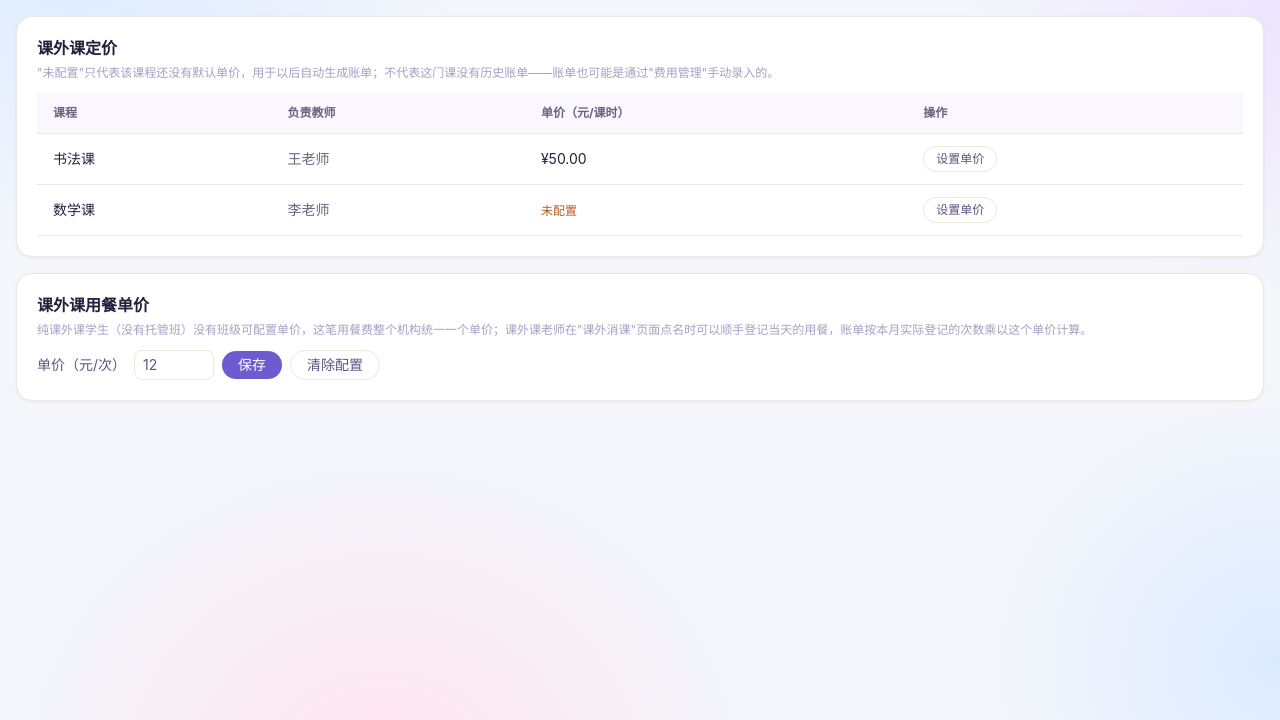
Test: AdminPricingModule › shows a validation error for invalid course price input
Expected: the text "数学课" is shown, [37, 184, 271, 236]
Click the button "设置单价" in the row of "数学课".
click(960, 210)  # box [923, 197, 997, 223]
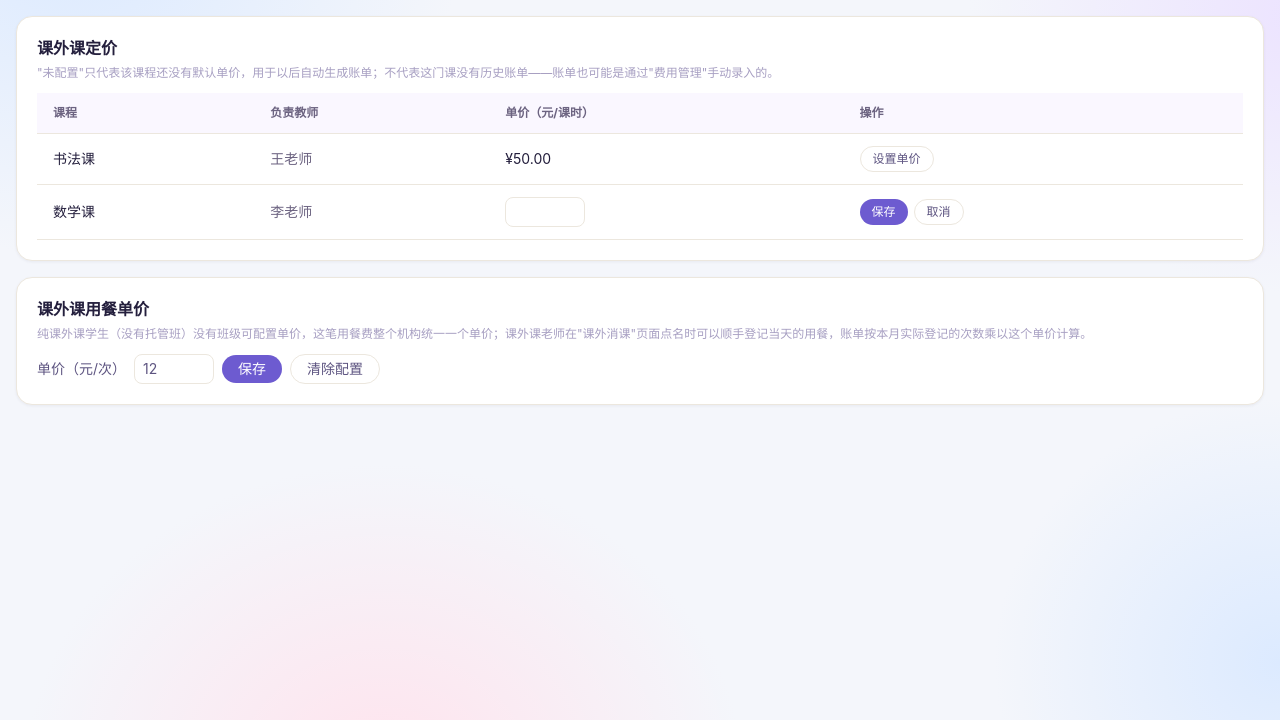
Type "abc" into the field named "数学课单价".
click(545, 212); type("abc")  # box [505, 197, 585, 227]
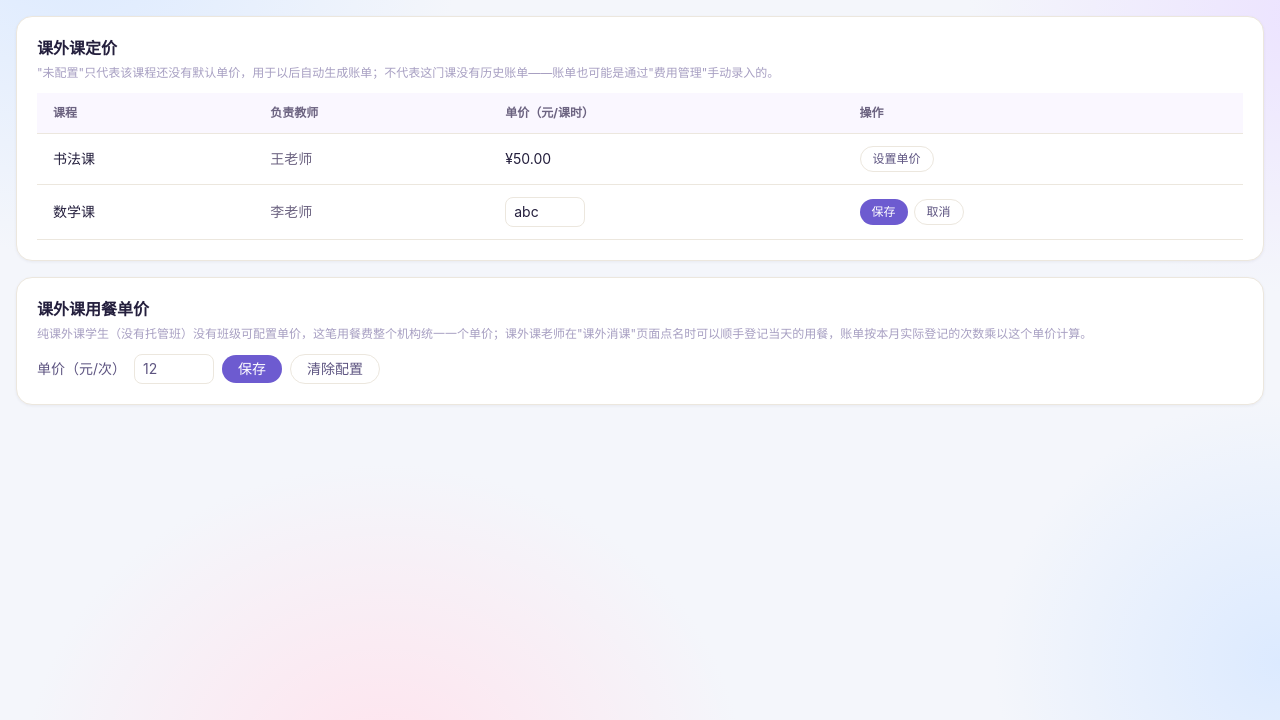
Click the button "保存" in the row of "数学课".
click(884, 212)  # box [860, 199, 908, 225]
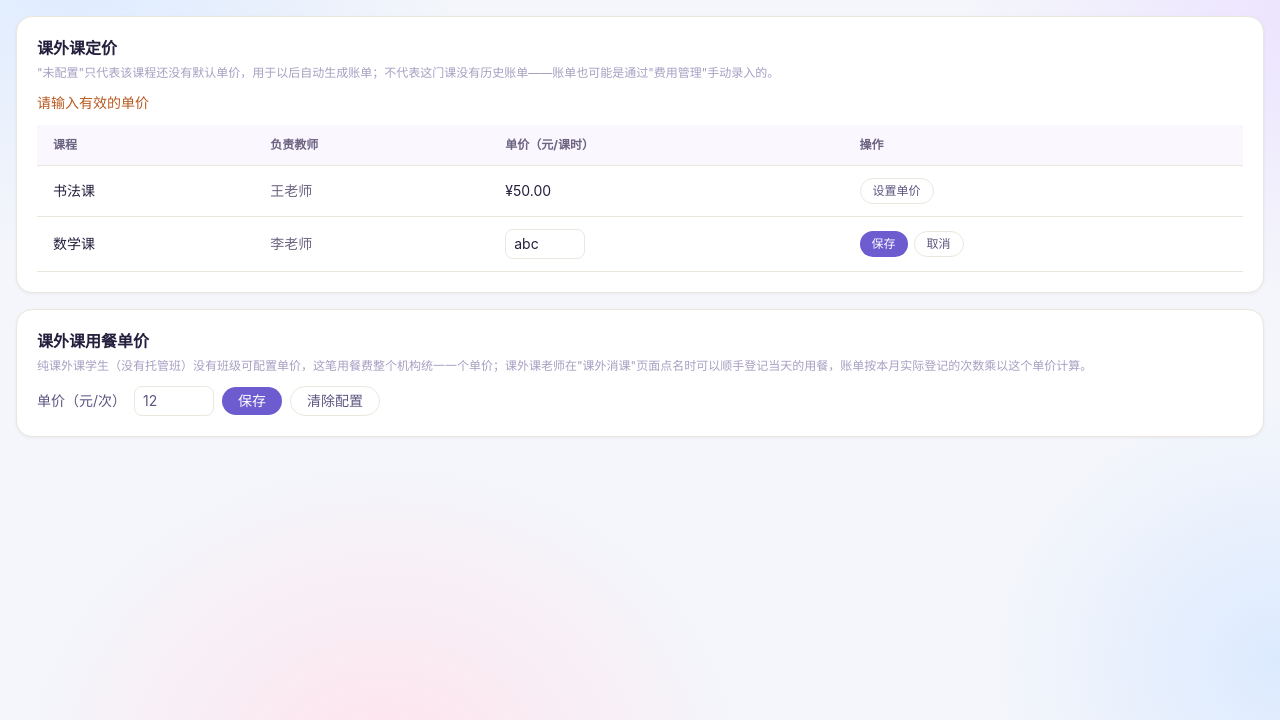
Result: the text "请输入有效的单价" is shown at [37, 94, 149, 111]
